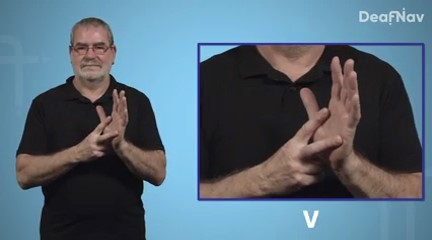V: (257, 52, 369, 198), (73, 87, 130, 163)
